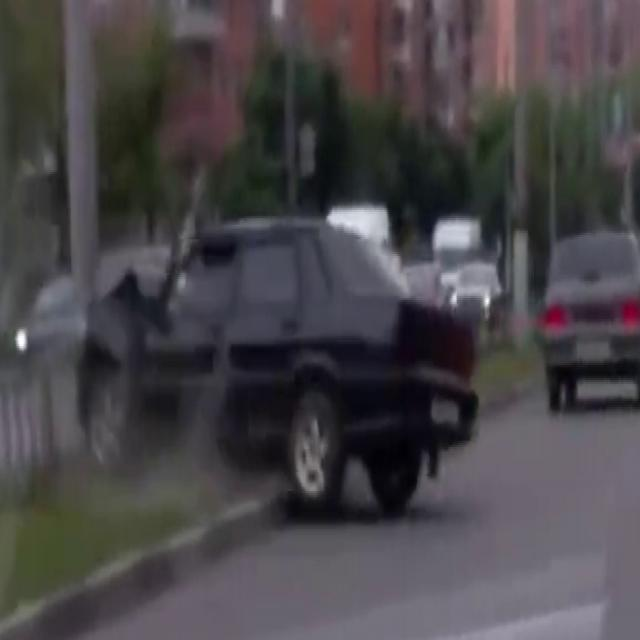accident: (76, 194, 470, 534)
